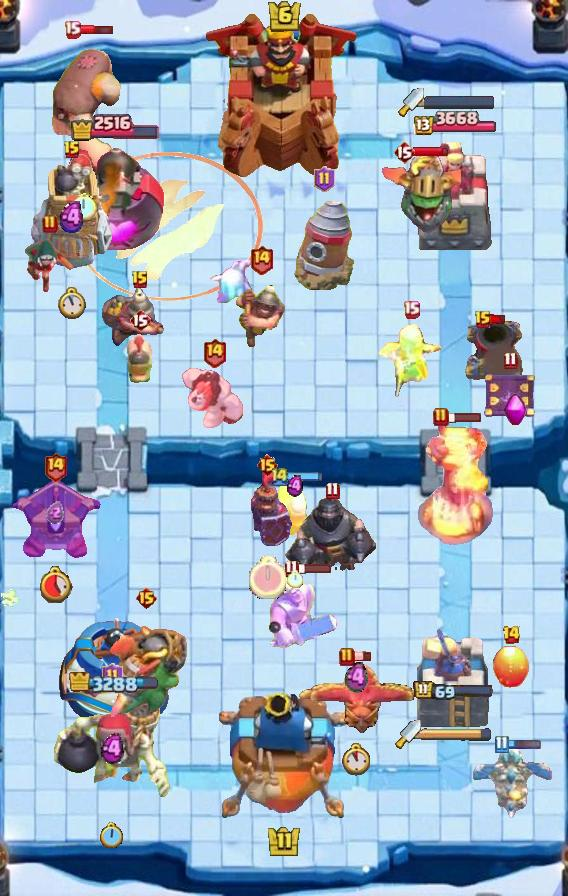balloon: (46, 33, 122, 173)
bandit: (100, 284, 180, 348), (234, 278, 288, 352)
bar: (412, 140, 494, 256), (414, 623, 492, 731)
bat: (209, 260, 253, 304)
electro-dragon: (416, 420, 494, 548)
electro-giant: (51, 685, 173, 801)
electro-spirit: (57, 202, 88, 235), (345, 661, 368, 695), (100, 733, 123, 765), (46, 501, 64, 524), (287, 475, 303, 497)
elixir: (249, 556, 287, 599), (37, 565, 73, 603), (340, 743, 372, 776), (58, 288, 86, 321), (71, 192, 96, 220), (100, 822, 124, 850), (287, 570, 303, 588)
elixir-golem-big: (239, 468, 295, 550)
emote: (78, 23, 114, 36), (413, 146, 449, 158), (446, 411, 482, 423), (296, 562, 332, 574), (288, 470, 323, 482), (506, 738, 542, 749), (352, 651, 372, 662), (490, 315, 507, 326)
executioner: (125, 328, 155, 384)
goblin-hut: (263, 571, 341, 653)
hog: (491, 645, 531, 689)
ice-spirit-evolution-symbol: (483, 370, 537, 420)
ice-wizard: (73, 151, 263, 301)
king-tower: (205, 11, 363, 181), (219, 692, 349, 826)
king-tower-bar: (424, 95, 496, 109), (421, 727, 493, 741)
lava-pup: (9, 478, 101, 560)
magic-archer: (291, 196, 357, 294)
mini-pekka: (469, 741, 553, 825)
mother-witch: (298, 660, 414, 736)
musketeer: (463, 316, 525, 384)
night-witch: (104, 614, 188, 728), (380, 153, 462, 233)
poison: (375, 323, 447, 399)
queen-tower: (54, 614, 173, 730)
rage: (181, 366, 247, 430)
royal-guardian: (282, 488, 382, 572)
selected: (68, 112, 159, 142), (412, 111, 497, 138), (69, 672, 159, 696), (414, 680, 495, 702)
skeleton-king-skill: (504, 393, 529, 427)
tesla: (25, 237, 75, 295)
text: (250, 245, 275, 276), (202, 336, 227, 367), (44, 450, 69, 481), (256, 453, 280, 477), (134, 586, 157, 610), (314, 166, 335, 192), (101, 663, 122, 689), (393, 140, 415, 164), (129, 308, 151, 332), (270, 465, 290, 487), (502, 625, 521, 645), (63, 140, 81, 160), (131, 270, 149, 290), (474, 310, 492, 330), (403, 301, 421, 319), (42, 214, 58, 234), (433, 407, 449, 427), (339, 647, 355, 667), (64, 21, 81, 39), (502, 351, 517, 370), (285, 559, 300, 578), (325, 481, 339, 499), (495, 735, 509, 753)
tombstone: (274, 481, 316, 539)
tower-bar: (63, 138, 164, 256)
zappy: (30, 151, 115, 273)
